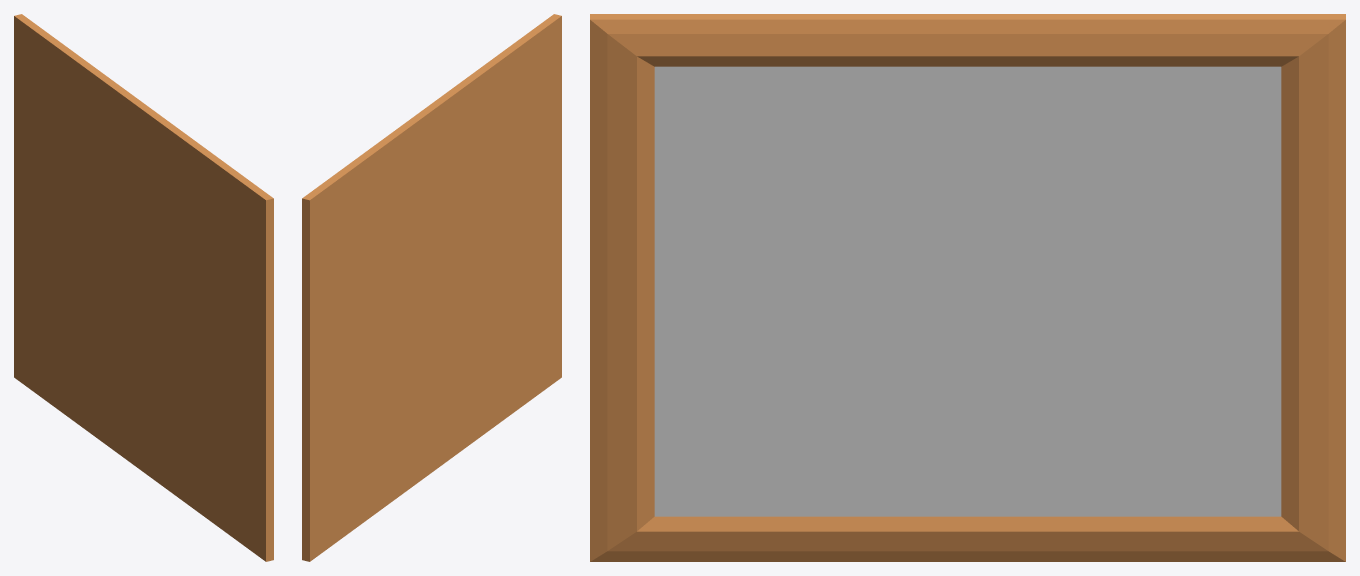
Rendered from frame.glb.
The picture shows the model from 3 angles, left to right: view 1: azimuth 30°, elevation 25°; view 2: azimuth 150°, elevation 25°; view 3: azimuth 270°, elevation 25°; orthographic projection. The views are drawn at different scales.
Visible parts, largest first — view 1: Cube.001; view 2: Cube.001; view 3: Cube.001.
Boxes of the visible parts, x1,y1,x2,y2 form: Cube.001: [14, 14, 273, 561]; Cube.001: [302, 14, 561, 561]; Cube.001: [590, 14, 1345, 561].
Size of the model in its own units: 0.2699 by 7.74 by 9.78.
